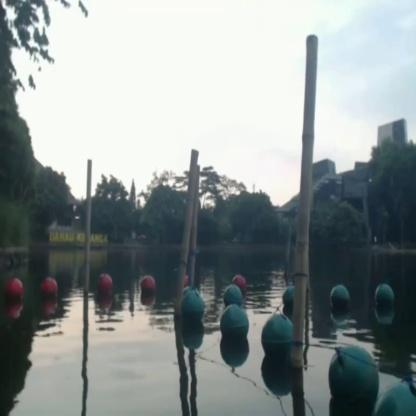green_buoy: (330, 344, 378, 413), (260, 312, 293, 360), (218, 306, 250, 346), (181, 285, 205, 323), (372, 282, 394, 312), (328, 285, 350, 311), (223, 284, 242, 304), (284, 284, 292, 308)
red_buoy: (96, 270, 113, 298), (140, 272, 156, 301), (40, 276, 58, 300), (9, 276, 23, 300), (233, 272, 244, 286)
